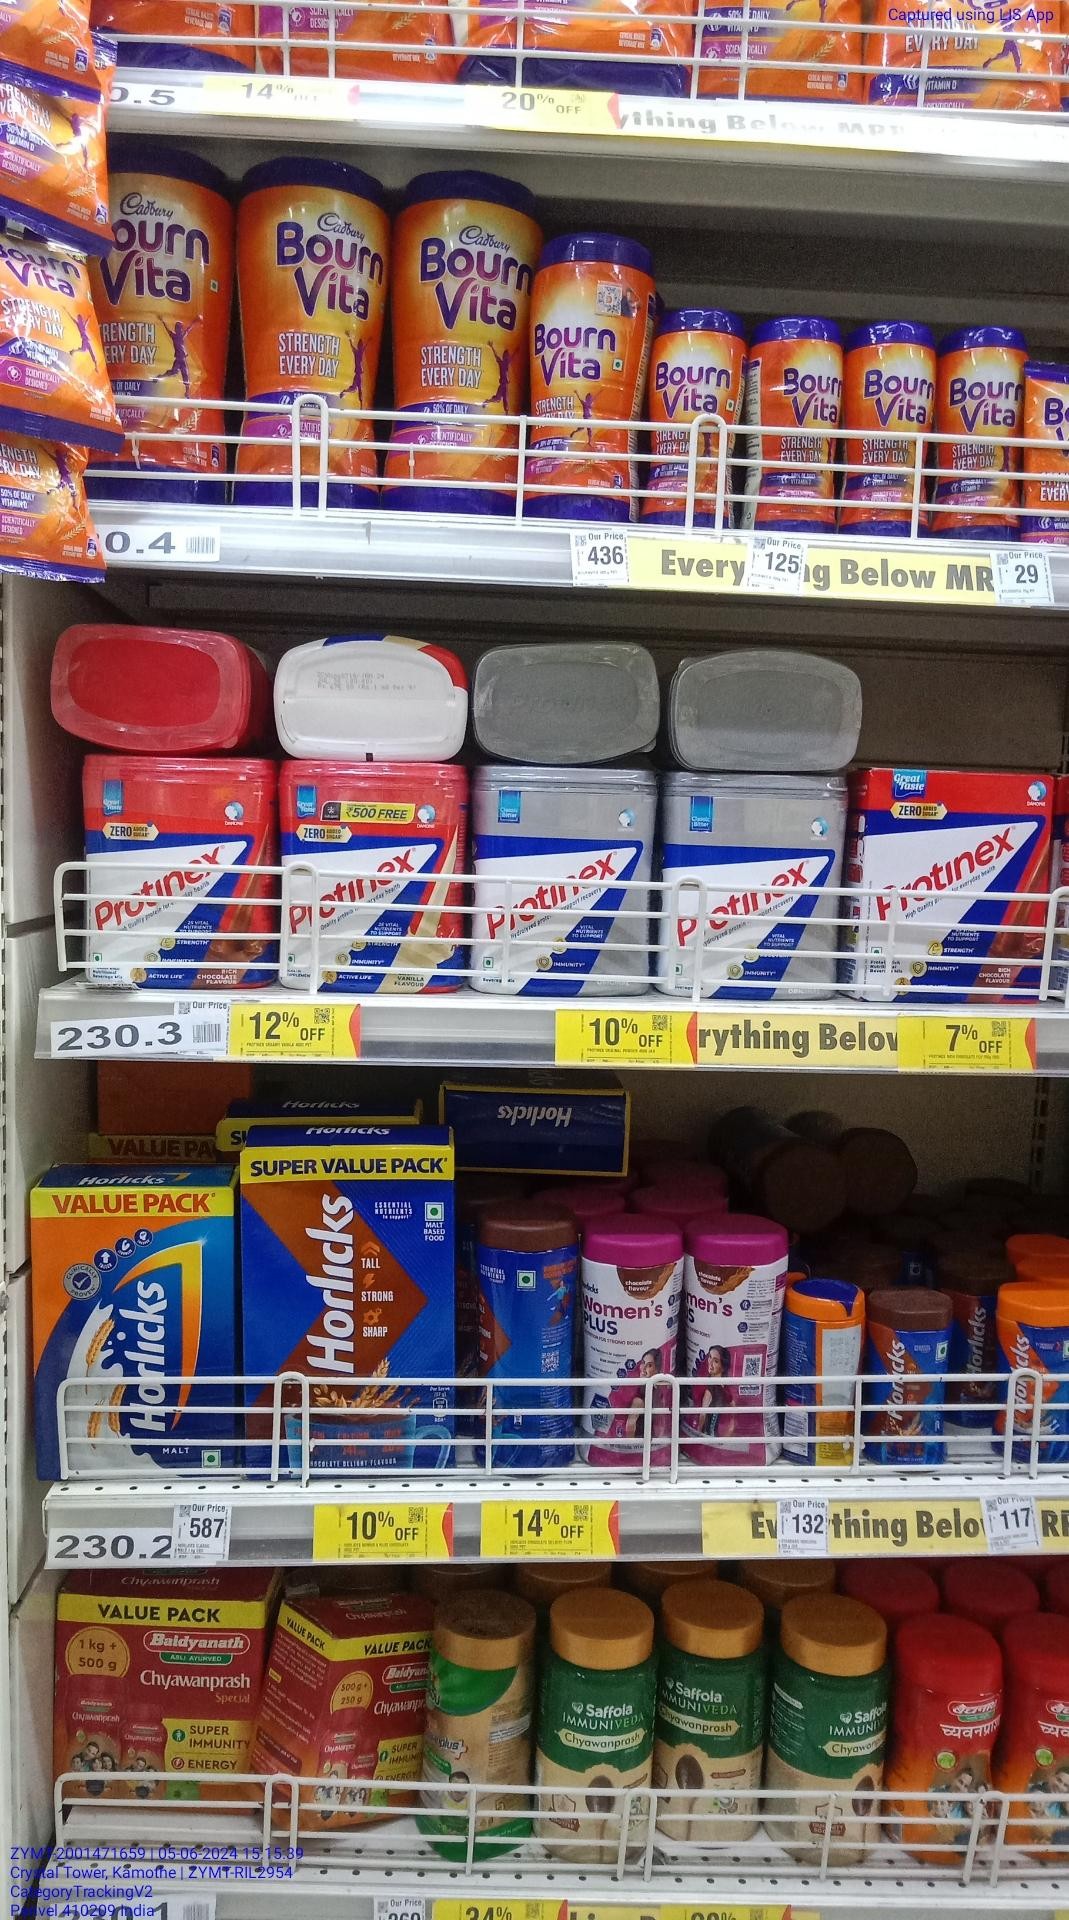BOURN_VITA_1_KG_JAR: (236, 157, 382, 512), (105, 142, 230, 504), (392, 168, 520, 518)
BOURN_VITA_200_G_JAR: (649, 305, 741, 526), (940, 320, 1027, 543), (849, 313, 935, 536), (752, 315, 837, 536)
BOURN_VITA_500_G_JAR: (527, 234, 637, 524)
HORLICK_CHOCOLATE_1_KG_PACK: (238, 1144, 456, 1482)
HORLICK_CHOCOLATE_200_G_JAR: (874, 1299, 947, 1469)
HORLICK_CLASSIC_MALT_500_G_PACK: (32, 1186, 233, 1473)
PROTINEX_CHOCOLATE_400_G_JAR: (86, 747, 273, 992)
PROTINEX_ORIGINAL_400_G_JAR: (665, 766, 843, 1000), (475, 762, 652, 996)
PROTINEX_VANILLA_400_G_JAR: (280, 757, 458, 999)
